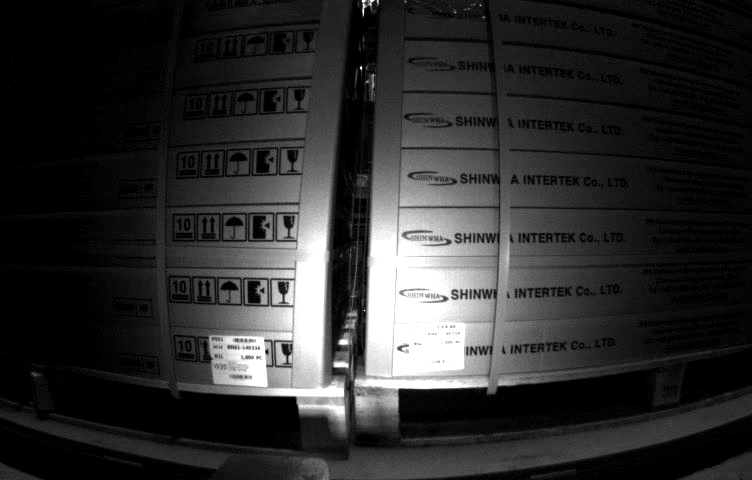True Barcode: (210, 334, 267, 388), (408, 323, 465, 370)
